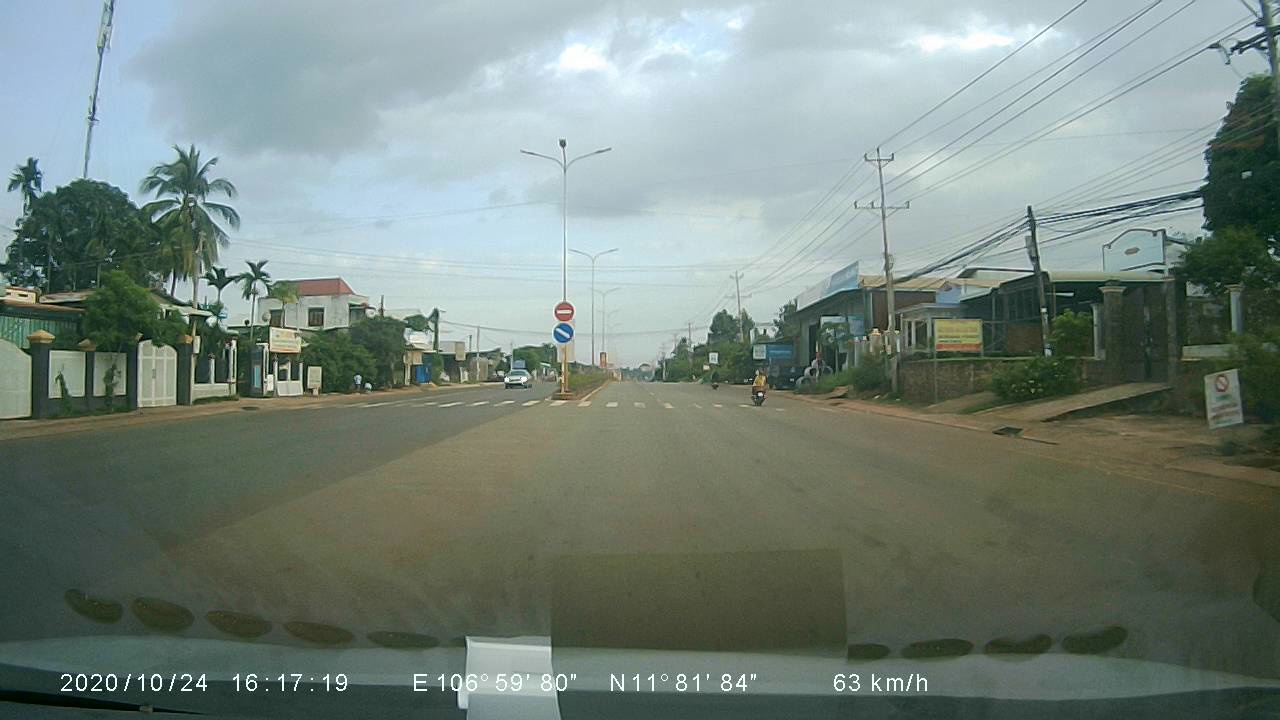Cam di nguoc chieu: (550, 297, 575, 323)
Huong di phai re phai: (552, 321, 573, 344)
